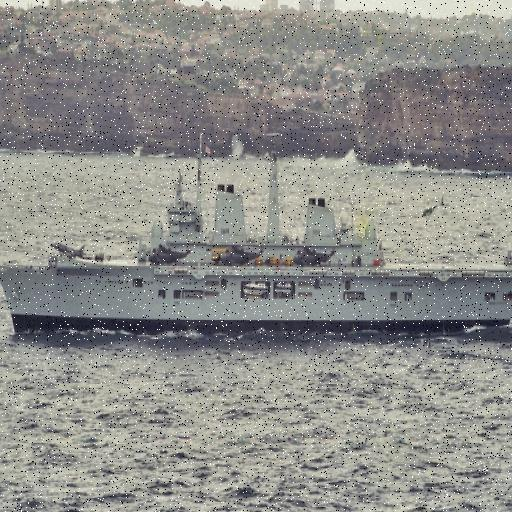Portanaves: (1, 127, 512, 344)
